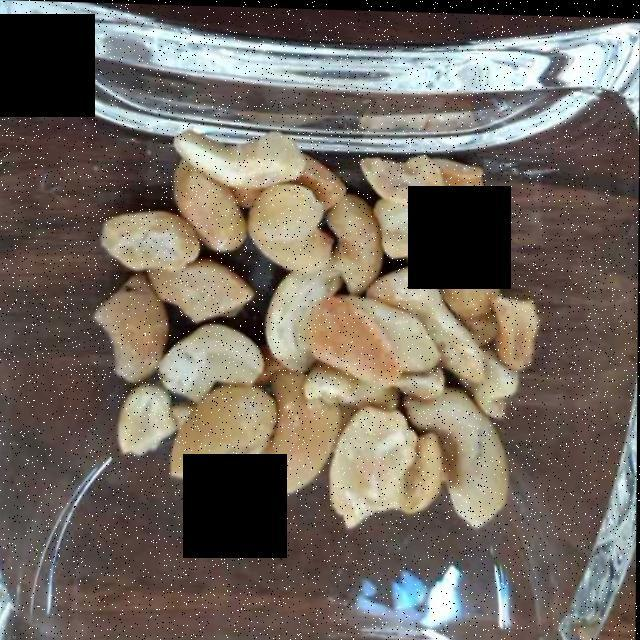cashew-nut: (105, 136, 528, 520)
